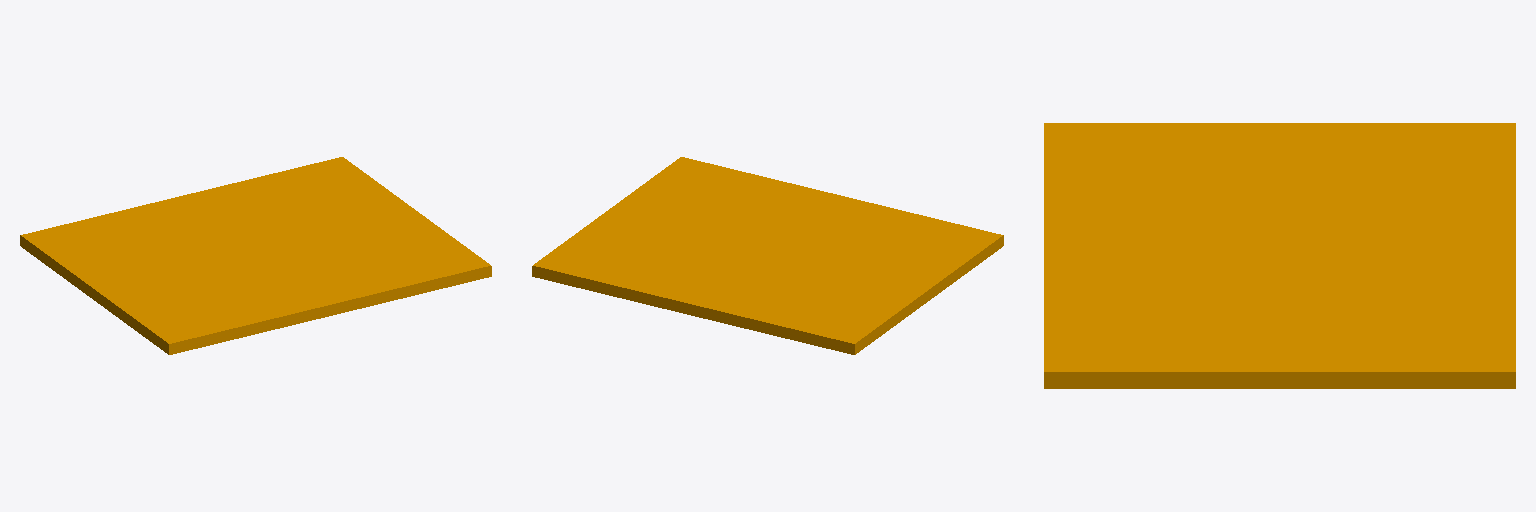
The robot description file, URDF, robot "box":
<?xml version="1.0" ?>
<robot name="box">
  <link name="base">
    <inertial>
      <origin rpy="0 0 0" xyz="0 0 0"/>
      <mass value=".1"/>
      <inertia ixx="0" ixy="0" ixz="0" iyy="0" iyz="0" izz="0"/>
    </inertial>
    <visual>
      <origin rpy="0 0 0" xyz="0 0 0"/>
      <geometry>
        <mesh filename="circleboard.obj" scale="1 1 1"/>
      </geometry>
    </visual>
    <collision>
      <origin rpy="0 0 0" xyz="0 0 0"/>
      <geometry>
        <mesh filename="circleboard.obj" scale="1 1 1"/>
      </geometry>
    </collision>
  </link>
</robot>

--- Facts derived from the render (not from the file) ---
The picture shows the robot from 3 angles, left to right: view 1: azimuth 30°, elevation 25°; view 2: azimuth 150°, elevation 25°; view 3: azimuth 270°, elevation 25°; orthographic projection.
Robot: box — 1 links, 0 joints (none); root link base; default pose: every joint at zero.
Visible links, largest first — view 1: base; view 2: base; view 3: base.
Boxes of the visible links, x1,y1,x2,y2 form: base: [20, 157, 491, 354]; base: [532, 157, 1003, 354]; base: [1044, 123, 1515, 388].
Size in the robot's own frame: 0.3 by 0.24 by 0.01 metres.
1 mesh visuals loaded from 1 distinct referenced files (1 OBJ).